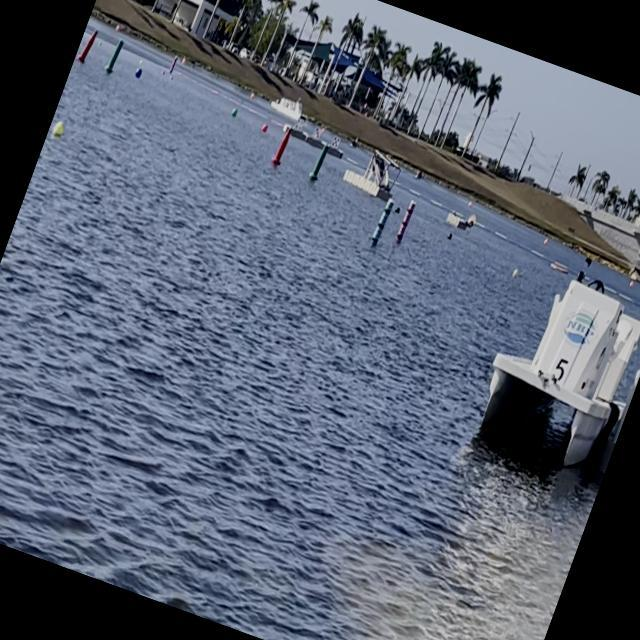buoy: (48, 118, 74, 144), (131, 64, 145, 82), (510, 267, 522, 282), (228, 106, 240, 120), (260, 121, 271, 135), (444, 230, 454, 243), (392, 204, 402, 217)
